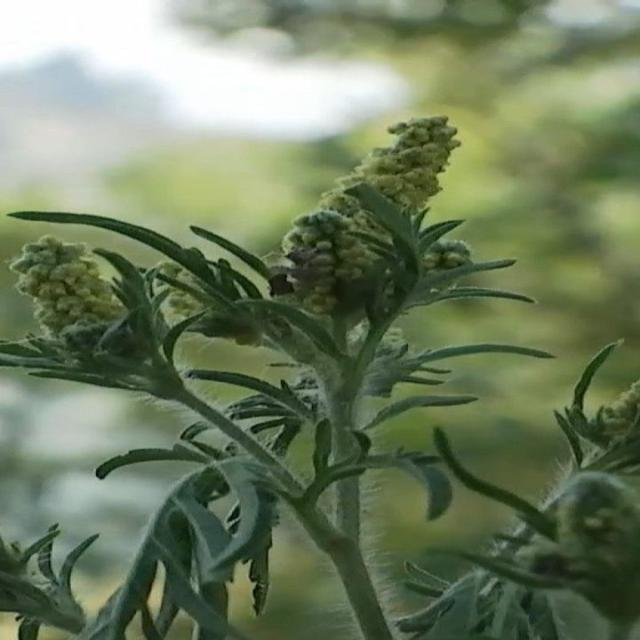ambrosia: (45, 92, 511, 540)
